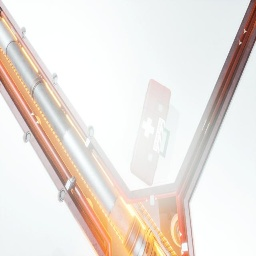FirstAidBox ,: (130, 79, 171, 186)
